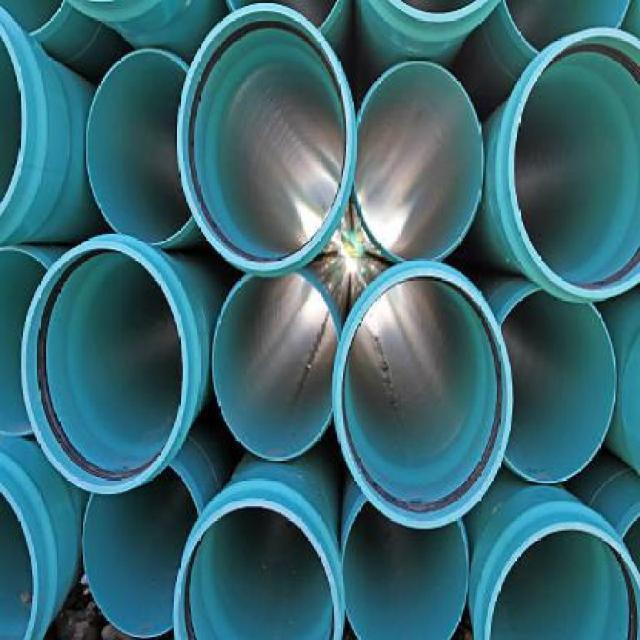pipe: (177, 3, 354, 268), (335, 271, 512, 528), (20, 243, 188, 494), (508, 28, 640, 300), (355, 60, 483, 262), (171, 497, 340, 638), (213, 274, 339, 459), (500, 288, 618, 484), (86, 50, 193, 246), (82, 466, 198, 640), (483, 520, 639, 638), (342, 499, 470, 638)
